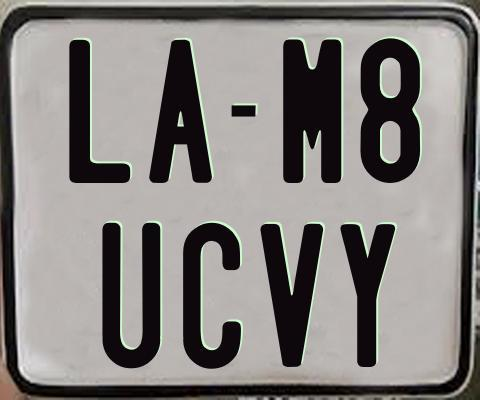8: (359, 38, 421, 186)
A: (147, 39, 212, 186)
C: (181, 220, 243, 372)
L: (67, 39, 134, 186)
M: (280, 39, 340, 183)
U: (101, 223, 161, 372)
V: (257, 224, 326, 367)
Y: (338, 224, 398, 367)
